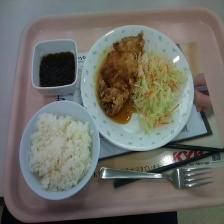sabzi: (37, 48, 81, 92)
